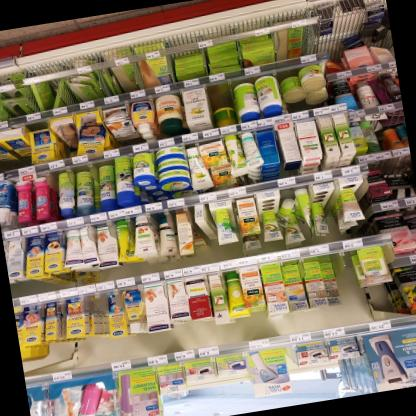empty_space: (206, 83, 232, 110)
